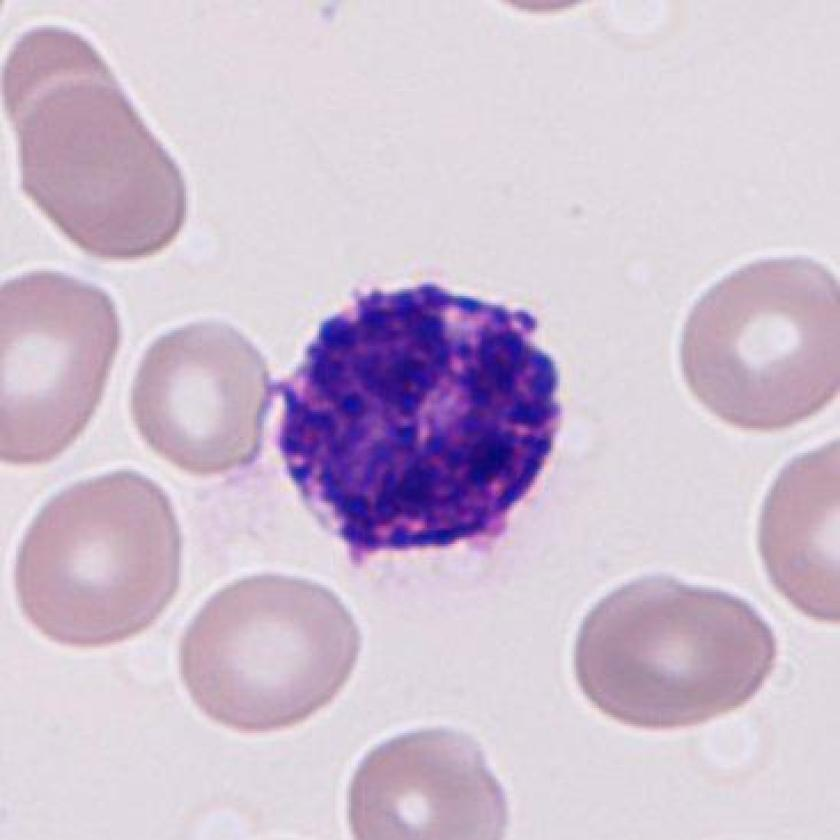basophil: (263, 270, 573, 557)
